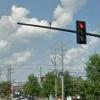Traffic light: (68, 13, 95, 59)
